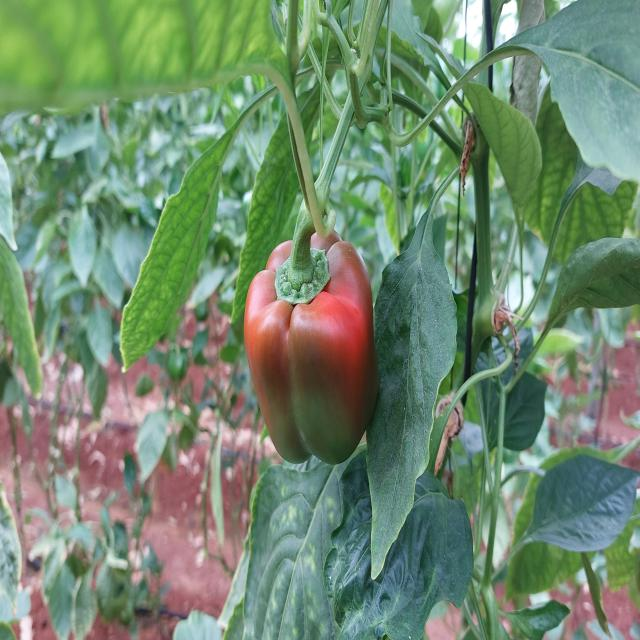BrownishRed--Can-be-Harvested: (245, 248, 379, 467)
